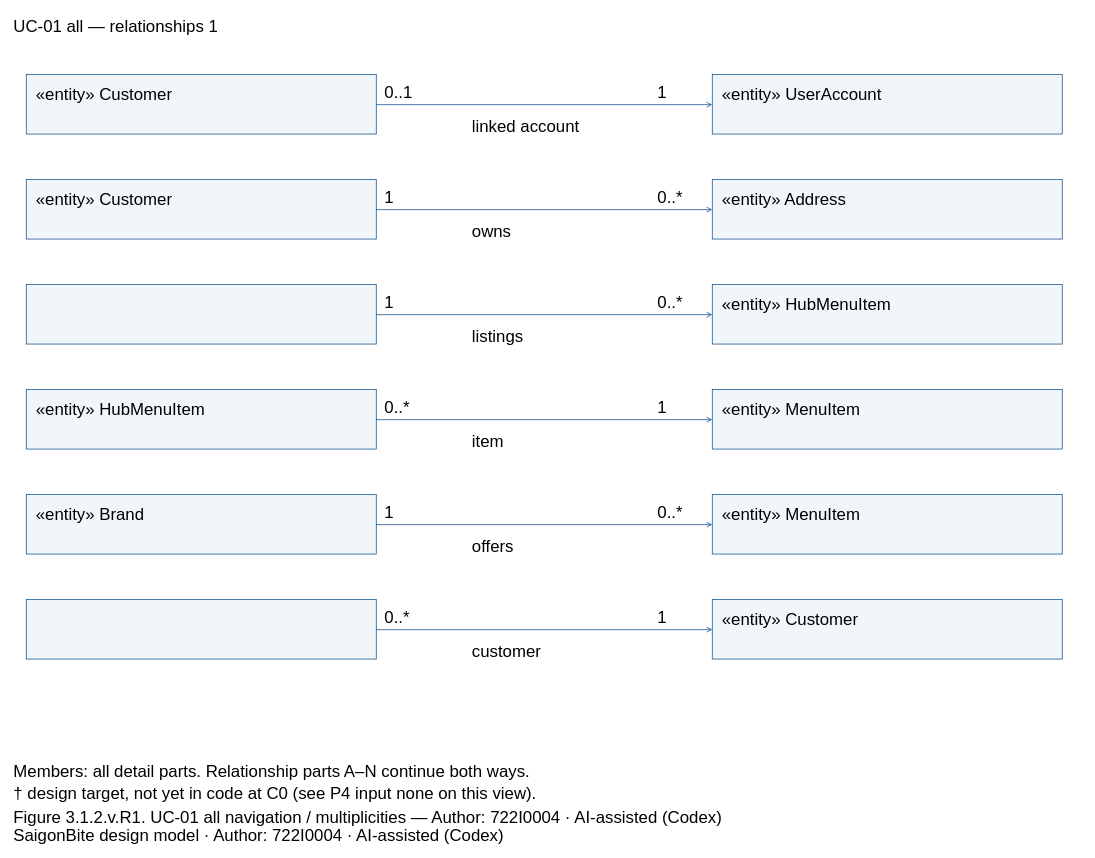
The diagram is 1095 pixels wide and 858 high, and some of its shapes have lost their labels. The shapes that lost their labels are listed below. From the top down, each one's box as (x1, y1, x2, y2) in pixels, then its label:
(26, 284, 376, 344): «entity» Hub
(26, 599, 376, 659): «entity» Order
